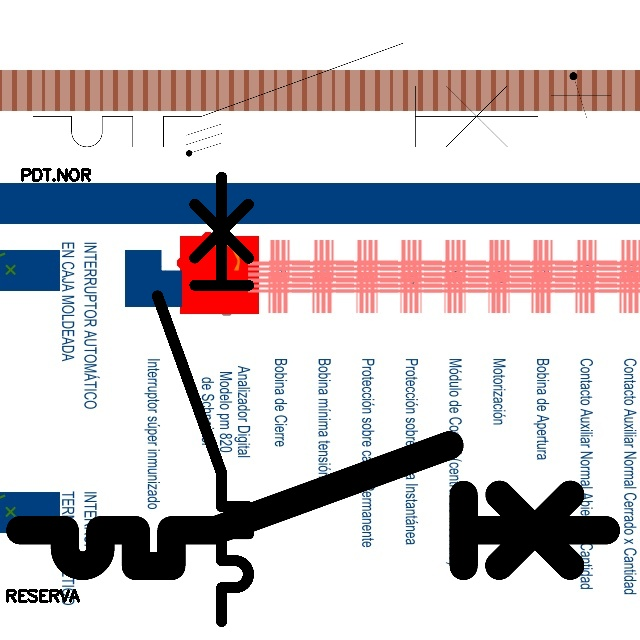interruptor_termomagnetico: (5, 430, 621, 581), (20, 30, 551, 160), (146, 165, 260, 633)
